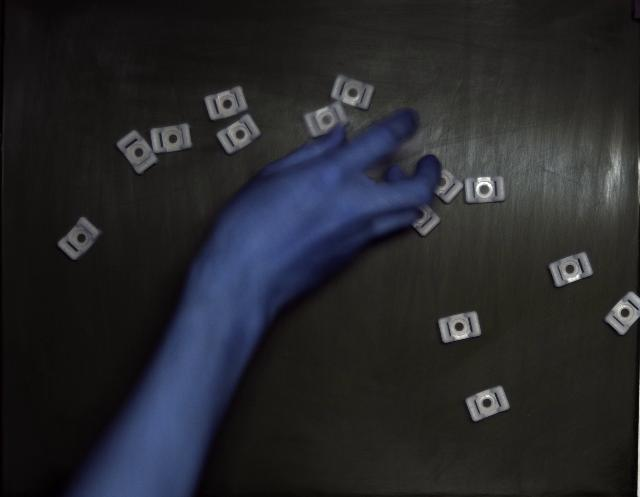first_side: (116, 130, 158, 175), (58, 218, 101, 260), (216, 115, 261, 155), (465, 386, 510, 422), (205, 86, 249, 121), (331, 75, 374, 110), (549, 253, 592, 288), (438, 311, 481, 344), (150, 124, 192, 152), (465, 176, 505, 204)
